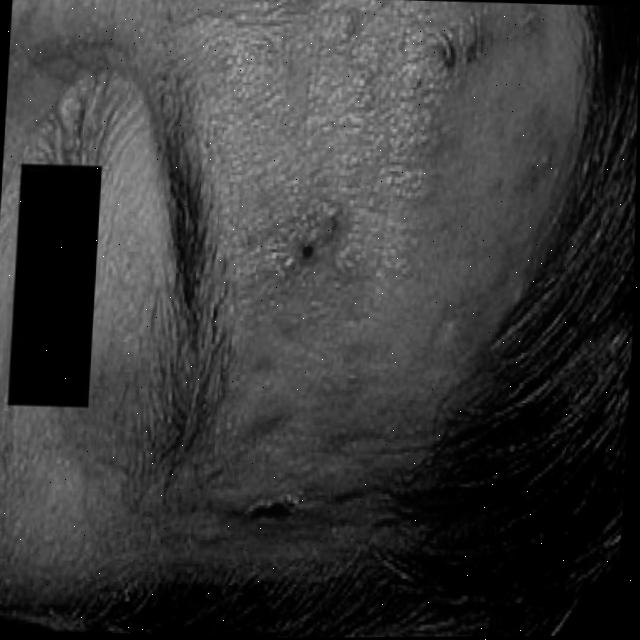Rosacea: (214, 0, 495, 388)
